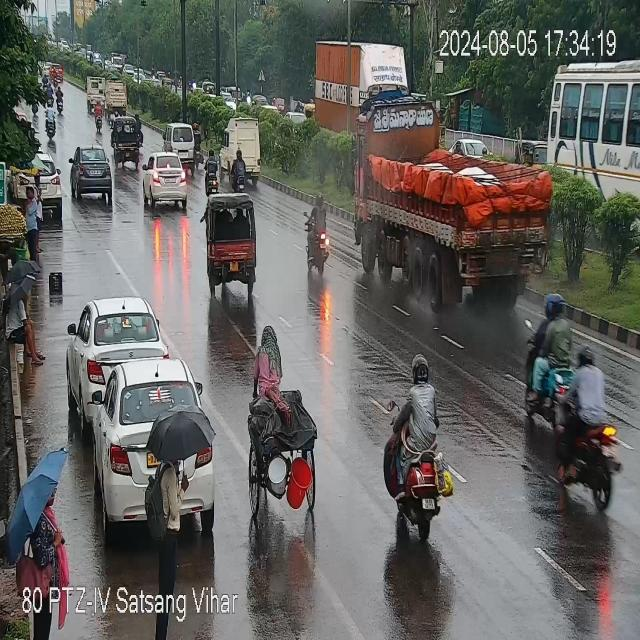2-wheelers: (380, 352, 460, 536), (545, 352, 626, 506), (525, 294, 567, 425), (299, 192, 333, 276), (204, 147, 219, 188), (232, 150, 246, 192), (194, 123, 203, 165), (46, 102, 55, 136), (94, 99, 102, 134), (137, 114, 145, 146), (56, 86, 64, 113), (46, 83, 53, 105), (52, 70, 56, 86)
auto: (248, 306, 326, 534), (204, 194, 258, 274), (113, 115, 137, 166)
bus: (544, 50, 640, 203)
car: (82, 362, 216, 474), (68, 298, 164, 402), (67, 143, 117, 200), (142, 154, 192, 208), (15, 160, 62, 208), (163, 122, 193, 154)
pedestrian: (145, 415, 183, 577), (30, 494, 64, 586), (4, 294, 43, 367), (26, 183, 38, 274), (35, 170, 42, 227)
truck: (350, 89, 540, 320), (308, 40, 423, 120), (219, 118, 266, 182), (104, 81, 127, 115), (86, 76, 105, 111)
